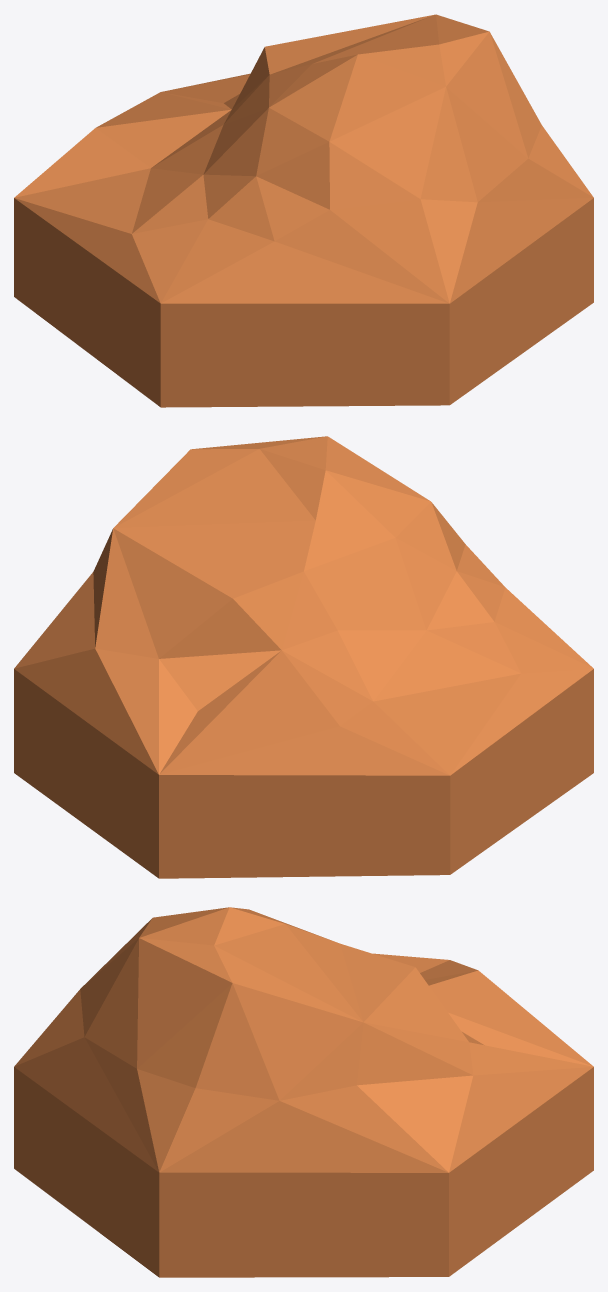
File: hex_mountain_3.fbx
3 views of the same model, one above another, from view 1: azimuth 30°, elevation 25°; view 2: azimuth 150°, elevation 25°; view 3: azimuth 270°, elevation 25° (orthographic).
Parts seen in each view (by area): view 1: Circle; view 2: Circle; view 3: Circle.
Part boxes in pixels (x1=…): Circle: x1=14, y1=14, x2=593, y2=407; Circle: x1=14, y1=436, x2=593, y2=878; Circle: x1=14, y1=907, x2=593, y2=1277.
Bounding box in the file's own units: 174 × 104 × 200.
